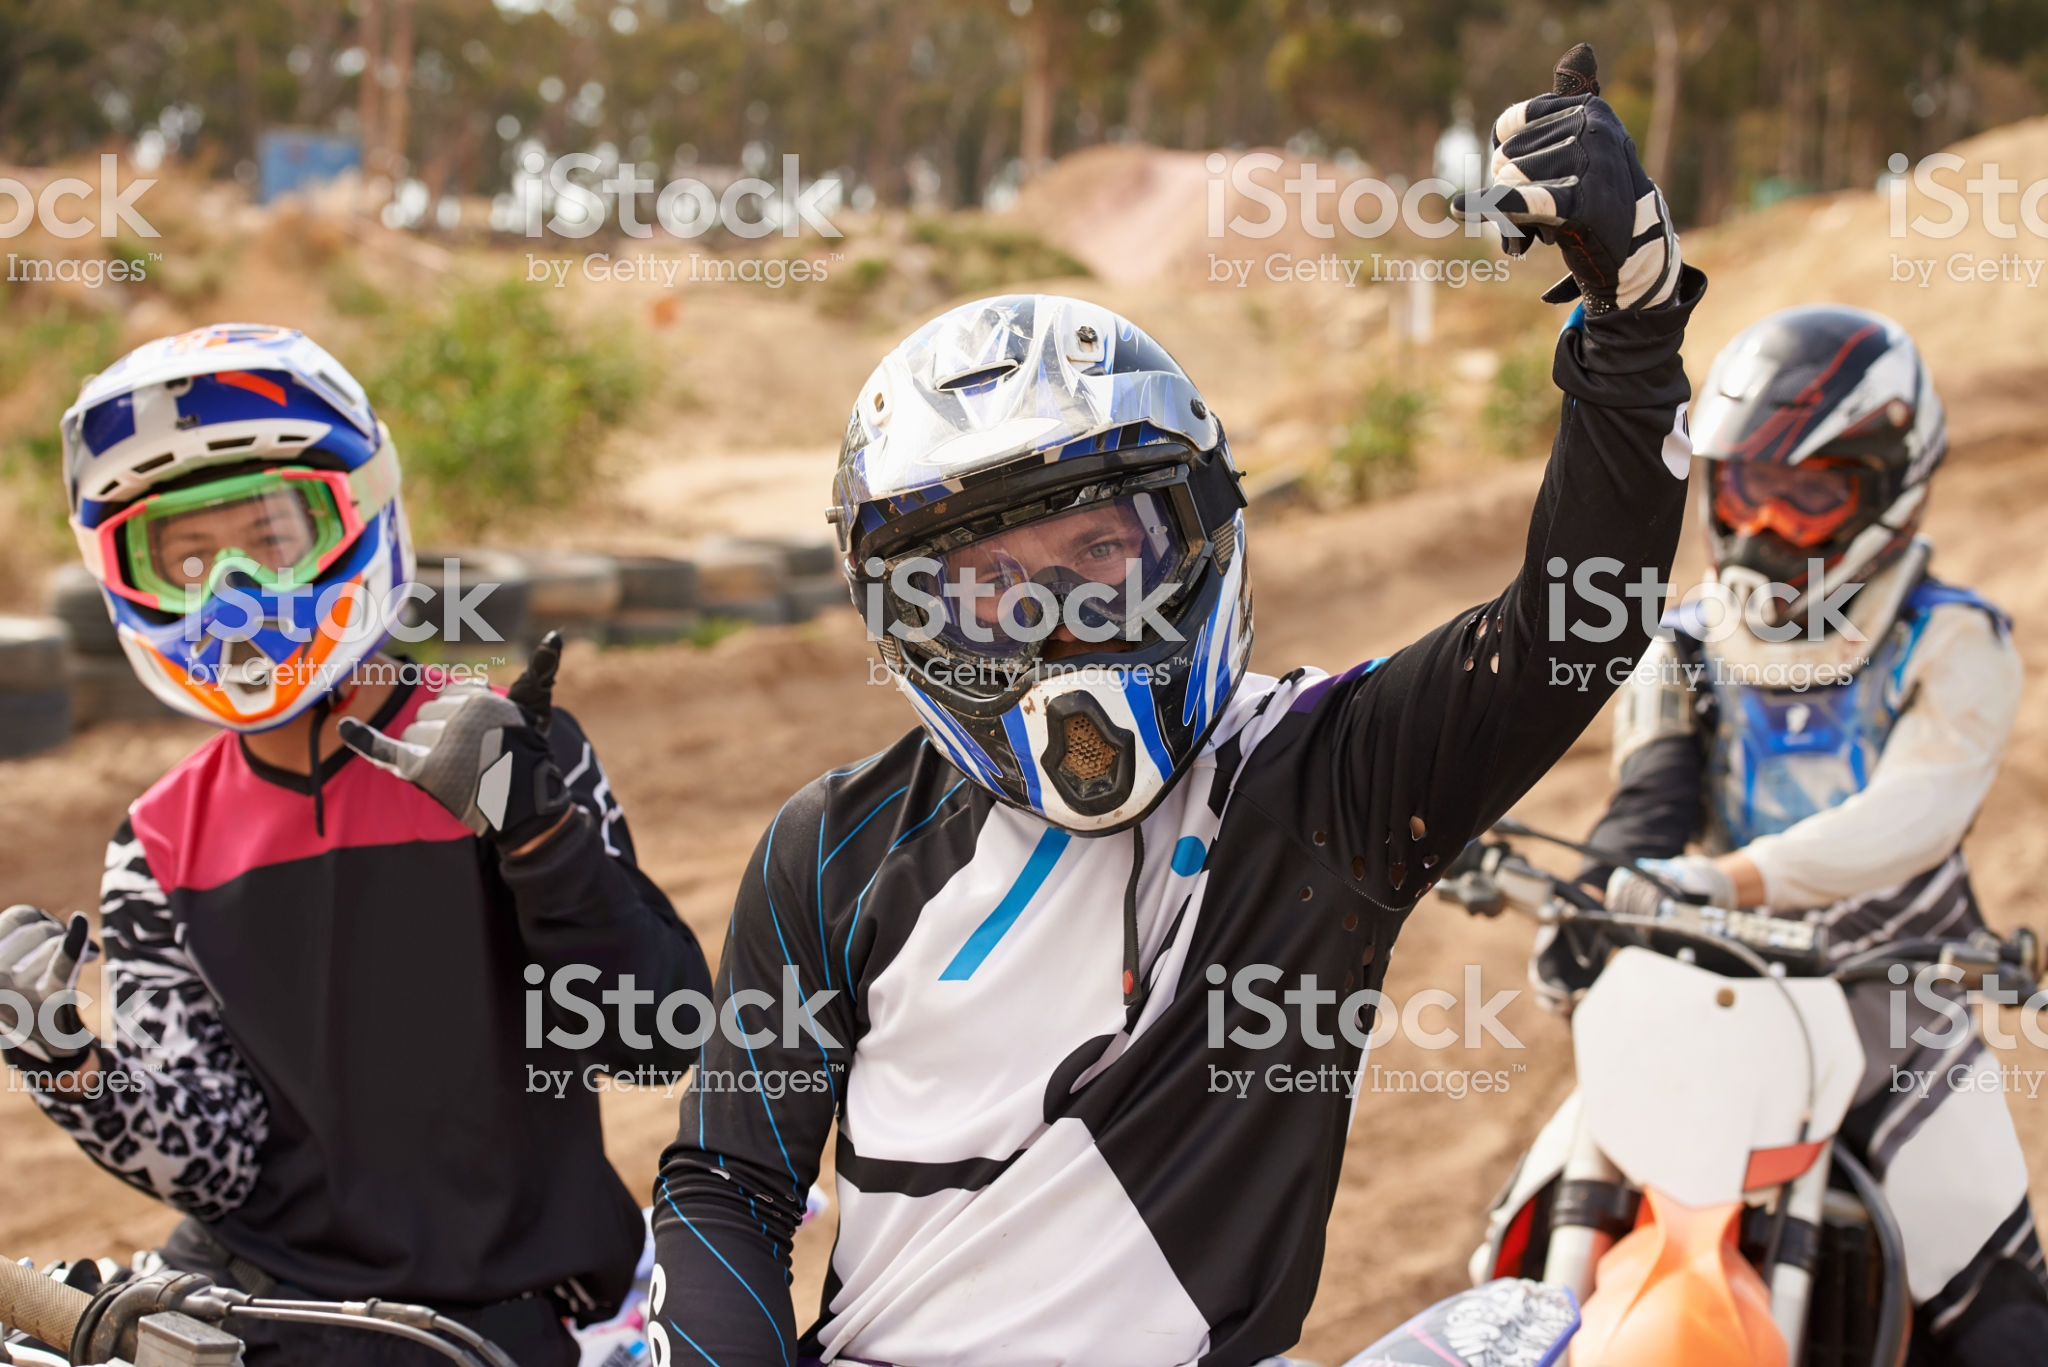helmet: (802, 294, 1229, 780), (34, 343, 456, 754), (1673, 298, 1946, 648)
